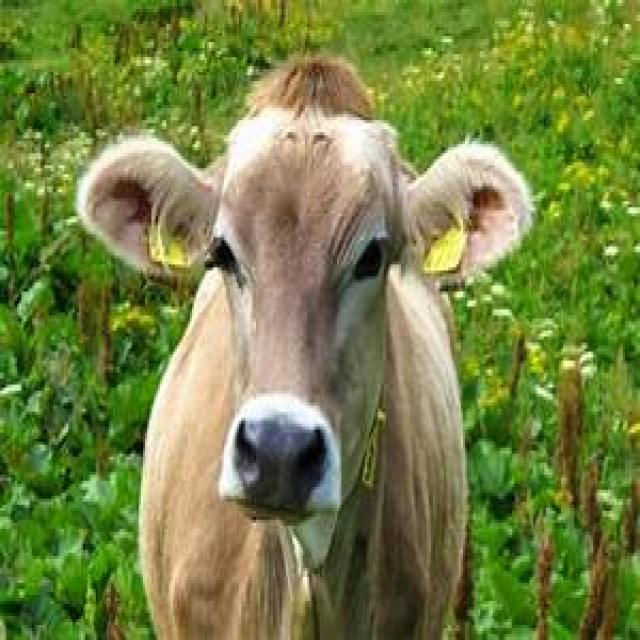cow: (78, 58, 532, 637)
